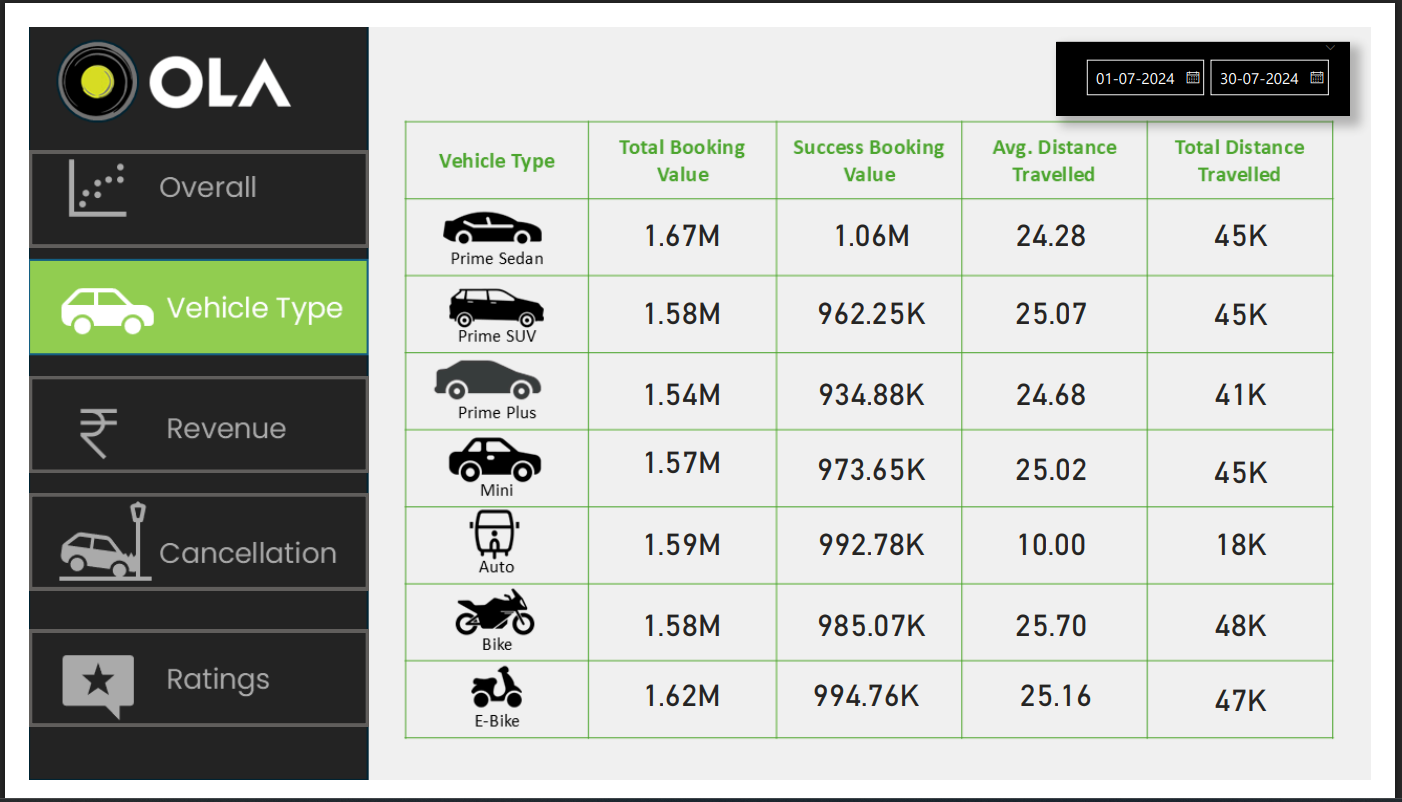

Layout of this report page (visuals, bound fields, positions):
{"tool":"powerbi","page":{"name":"Vehicle Type","canvas":[1280,720],"ordinal":1},"visuals":[{"type":"actionButton","box":[0,118,323.8,91.9],"z":0},{"type":"actionButton","box":[0,333.4,323.8,91.9],"z":1000},{"type":"actionButton","box":[0,444.6,323.8,91.9],"z":2000},{"type":"actionButton","box":[0,575,323.8,91.9],"z":3000},{"type":"card","fields":{"Values":["Sum(July.Booking_Value)"]},"box":[536.5,164.7,171.5,63.1],"z":4000},{"type":"card","fields":{"Values":["Sum(July.Booking_Value)"]},"box":[536.5,240.1,171.5,63.1],"z":5000},{"type":"card","fields":{"Values":["Sum(July.Booking_Value)"]},"box":[536.5,317,171.5,63.1],"z":6000},{"type":"card","fields":{"Values":["Sum(July.Booking_Value)"]},"box":[536.5,381.5,171.5,63.1],"z":7000},{"type":"card","fields":{"Values":["Sum(July.Booking_Value)"]},"box":[536.5,459.7,171.5,63.1],"z":8000},{"type":"card","fields":{"Values":["Sum(July.Booking_Value)"]},"box":[536.5,536.5,171.5,63.1],"z":9000},{"type":"card","fields":{"Values":["Sum(July.Booking_Value)"]},"box":[536.5,603.8,171.5,63.1],"z":10000},{"type":"card","fields":{"Values":["Sum(July.Booking_Value)"]},"box":[717.7,164.7,171.5,63.1],"z":11000},{"type":"card","fields":{"Values":["Sum(July.Booking_Value)"]},"box":[717.7,240.1,171.5,63.1],"z":12000},{"type":"card","fields":{"Values":["Sum(July.Booking_Value)"]},"box":[717.7,317,171.5,63.1],"z":13000},{"type":"card","fields":{"Values":["Sum(July.Booking_Value)"]},"box":[717.7,381.5,171.5,78.2],"z":14000},{"type":"card","fields":{"Values":["Sum(July.Booking_Value)"]},"box":[717.7,459.7,171.5,63.1],"z":15000},{"type":"card","fields":{"Values":["Sum(July.Booking_Value)"]},"box":[717.7,536.5,171.5,63.1],"z":16000},{"type":"card","fields":{"Values":["Sum(July.Booking_Value)"]},"box":[708.1,603.8,181.1,63.1],"z":17000},{"type":"card","fields":{"Values":["Avg(July.Ride_Distance)"]},"box":[889.2,164.7,171.5,63.1],"z":18000},{"type":"card","fields":{"Values":["Avg(July.Ride_Distance)"]},"box":[889.2,240.1,171.5,63.1],"z":19000},{"type":"card","fields":{"Values":["Avg(July.Ride_Distance)"]},"box":[889.2,317,171.5,63.1],"z":20000},{"type":"card","fields":{"Values":["Avg(July.Ride_Distance)"]},"box":[889.2,381.5,171.5,78.2],"z":21000},{"type":"card","fields":{"Values":["Avg(July.Ride_Distance)"]},"box":[889.2,459.7,171.5,63.1],"z":22000},{"type":"card","fields":{"Values":["Avg(July.Ride_Distance)"]},"box":[889.2,536.5,171.5,63.1],"z":23000},{"type":"card","fields":{"Values":["Avg(July.Ride_Distance)"]},"box":[889.2,603.8,181.1,63.1],"z":24000},{"type":"card","fields":{"Values":["Sum(July.Ride_Distance)"]},"box":[1070.3,164.7,171.5,63.1],"z":25000},{"type":"card","fields":{"Values":["Sum(July.Ride_Distance)"]},"box":[1070.3,236,171.5,72.7],"z":26000},{"type":"card","fields":{"Values":["Sum(July.Ride_Distance)"]},"box":[1070.3,317,171.5,63.1],"z":27000},{"type":"card","fields":{"Values":["Sum(July.Ride_Distance)"]},"box":[1070.3,385.6,171.5,74.1],"z":28000},{"type":"card","fields":{"Values":["Sum(July.Ride_Distance)"]},"box":[1070.3,459.7,171.5,63.1],"z":29000},{"type":"card","fields":{"Values":["Sum(July.Ride_Distance)"]},"box":[1070.3,536.5,171.5,63.1],"z":30000},{"type":"card","fields":{"Values":["Sum(July.Ride_Distance)"]},"box":[1070.3,603.8,171.5,72.7],"z":31000},{"type":"slicer","title":"Date","fields":{"Values":["July.Date"]},"box":[979.8,13.7,279.9,70],"z":32000}]}

Visuals, with their boxes on the page's 1280x720 design canvas (x1, y1, x2, y2). These are canvas units, not pixel positions in the 1402x802 screenshot, which may show the page scaled, cropped or inside an application window:
actionButton: (0, 118, 324, 210)
actionButton: (0, 333, 324, 425)
actionButton: (0, 445, 324, 536)
actionButton: (0, 575, 324, 667)
card - Sum(July.Booking_Value): (536, 165, 708, 228)
card - Sum(July.Booking_Value): (536, 240, 708, 303)
card - Sum(July.Booking_Value): (536, 317, 708, 380)
card - Sum(July.Booking_Value): (536, 382, 708, 445)
card - Sum(July.Booking_Value): (536, 460, 708, 523)
card - Sum(July.Booking_Value): (536, 536, 708, 600)
card - Sum(July.Booking_Value): (536, 604, 708, 667)
card - Sum(July.Booking_Value): (718, 165, 889, 228)
card - Sum(July.Booking_Value): (718, 240, 889, 303)
card - Sum(July.Booking_Value): (718, 317, 889, 380)
card - Sum(July.Booking_Value): (718, 382, 889, 460)
card - Sum(July.Booking_Value): (718, 460, 889, 523)
card - Sum(July.Booking_Value): (718, 536, 889, 600)
card - Sum(July.Booking_Value): (708, 604, 889, 667)
card - Avg(July.Ride_Distance): (889, 165, 1061, 228)
card - Avg(July.Ride_Distance): (889, 240, 1061, 303)
card - Avg(July.Ride_Distance): (889, 317, 1061, 380)
card - Avg(July.Ride_Distance): (889, 382, 1061, 460)
card - Avg(July.Ride_Distance): (889, 460, 1061, 523)
card - Avg(July.Ride_Distance): (889, 536, 1061, 600)
card - Avg(July.Ride_Distance): (889, 604, 1070, 667)
card - Sum(July.Ride_Distance): (1070, 165, 1242, 228)
card - Sum(July.Ride_Distance): (1070, 236, 1242, 309)
card - Sum(July.Ride_Distance): (1070, 317, 1242, 380)
card - Sum(July.Ride_Distance): (1070, 386, 1242, 460)
card - Sum(July.Ride_Distance): (1070, 460, 1242, 523)
card - Sum(July.Ride_Distance): (1070, 536, 1242, 600)
card - Sum(July.Ride_Distance): (1070, 604, 1242, 676)
"Date" slicer: (980, 14, 1260, 84)
